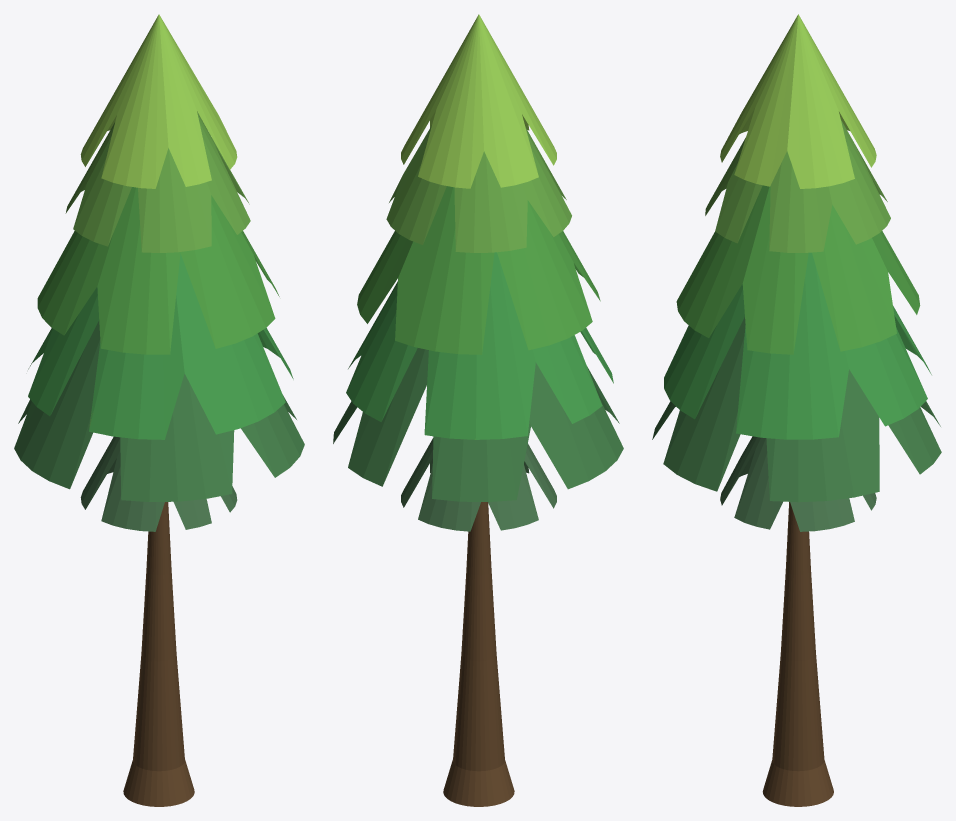
Rendered from detail tree Tall.fbx.
The picture shows the model from 3 angles, left to right: view 1: azimuth 30°, elevation 25°; view 2: azimuth 150°, elevation 25°; view 3: azimuth 270°, elevation 25°; orthographic projection.
Visible parts, largest first — view 1: Cone.004; view 2: Cone.004; view 3: Cone.004.
Boxes of the visible parts, bbox=[...] form: Cone.004: bbox=[14, 14, 304, 806]; Cone.004: bbox=[333, 14, 623, 806]; Cone.004: bbox=[652, 14, 941, 806].
Size of the model in its own units: 16.98 by 16.81 by 49.82.
Materials: 1 (1 with a texture image).
